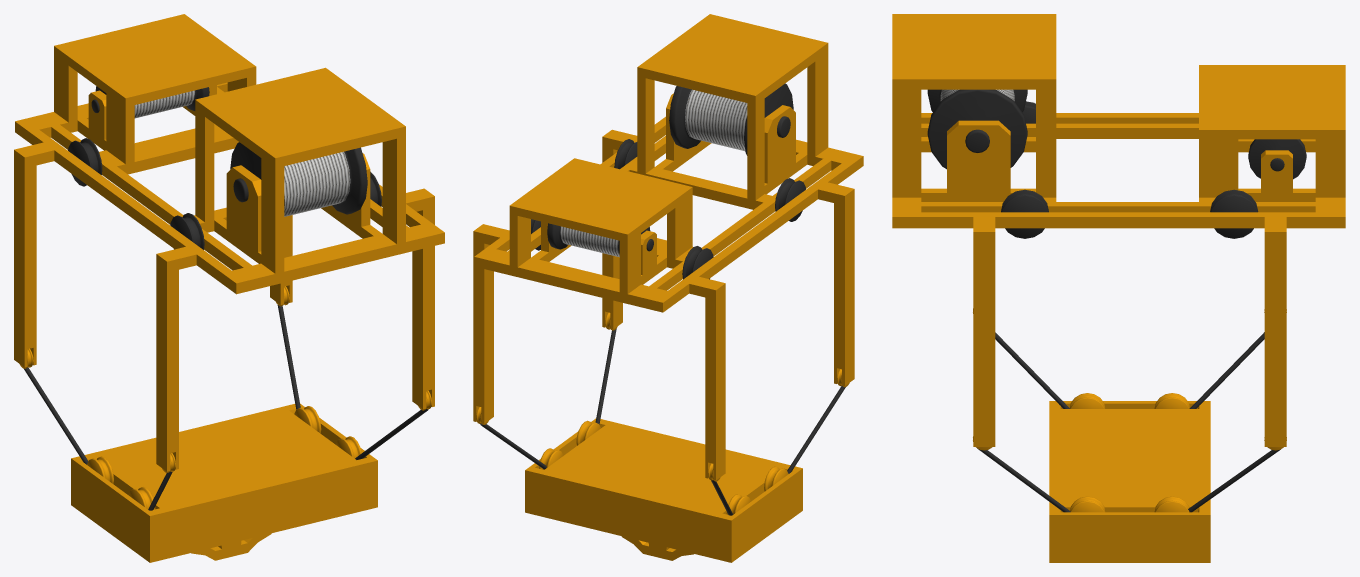
Rendered from gc_04_trolly.glb.
3 renders of one model, left to right at view 1: azimuth 30°, elevation 25°; view 2: azimuth 150°, elevation 25°; view 3: azimuth 270°, elevation 25°, orthographic. The views are drawn at different scales.
Parts seen in each view (by area): view 1: hook_cart_yellow_metal.001_0, hook_Material_0, hook_cart_red_metal.001_0, hook_cart_cables_0, rope2, rope1; view 2: hook_cart_yellow_metal.001_0, hook_Material_0, hook_cart_red_metal.001_0, hook_cart_cables_0, rope3; view 3: hook_cart_yellow_metal.001_0, hook_Material_0, hook_cart_red_metal.001_0, rope1, rope4, rope2, rope3.
Boxes of the visible parts, x1,y1,x2,y2 form: hook_cart_yellow_metal.001_0: (14,14,444,472); hook_Material_0: (71,403,377,562); hook_cart_red_metal.001_0: (68,86,381,249); hook_cart_cables_0: (134,90,350,216); rope2: (23,367,88,464); rope1: (277,305,300,409); hook_cart_yellow_metal.001_0: (473,14,863,481); hook_Material_0: (525,418,802,562); hook_cart_red_metal.001_0: (531,83,805,279); hook_cart_cables_0: (560,89,747,257); rope3: (787,386,845,473); hook_cart_yellow_metal.001_0: (892,14,1345,450); hook_Material_0: (1049,393,1210,562); hook_cart_red_metal.001_0: (927,89,1306,238); rope1: (1188,449,1280,512); rope4: (977,448,1070,512); rope2: (1189,332,1264,408); rope3: (995,332,1069,408).
Size of the model in its own units: 3.8 by 6.7 by 5.44.
Materials: 3 (1 with a texture image).
